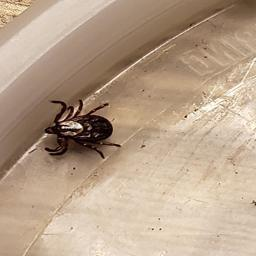Rhipicephalus sanguineus: (45, 100, 122, 160)
